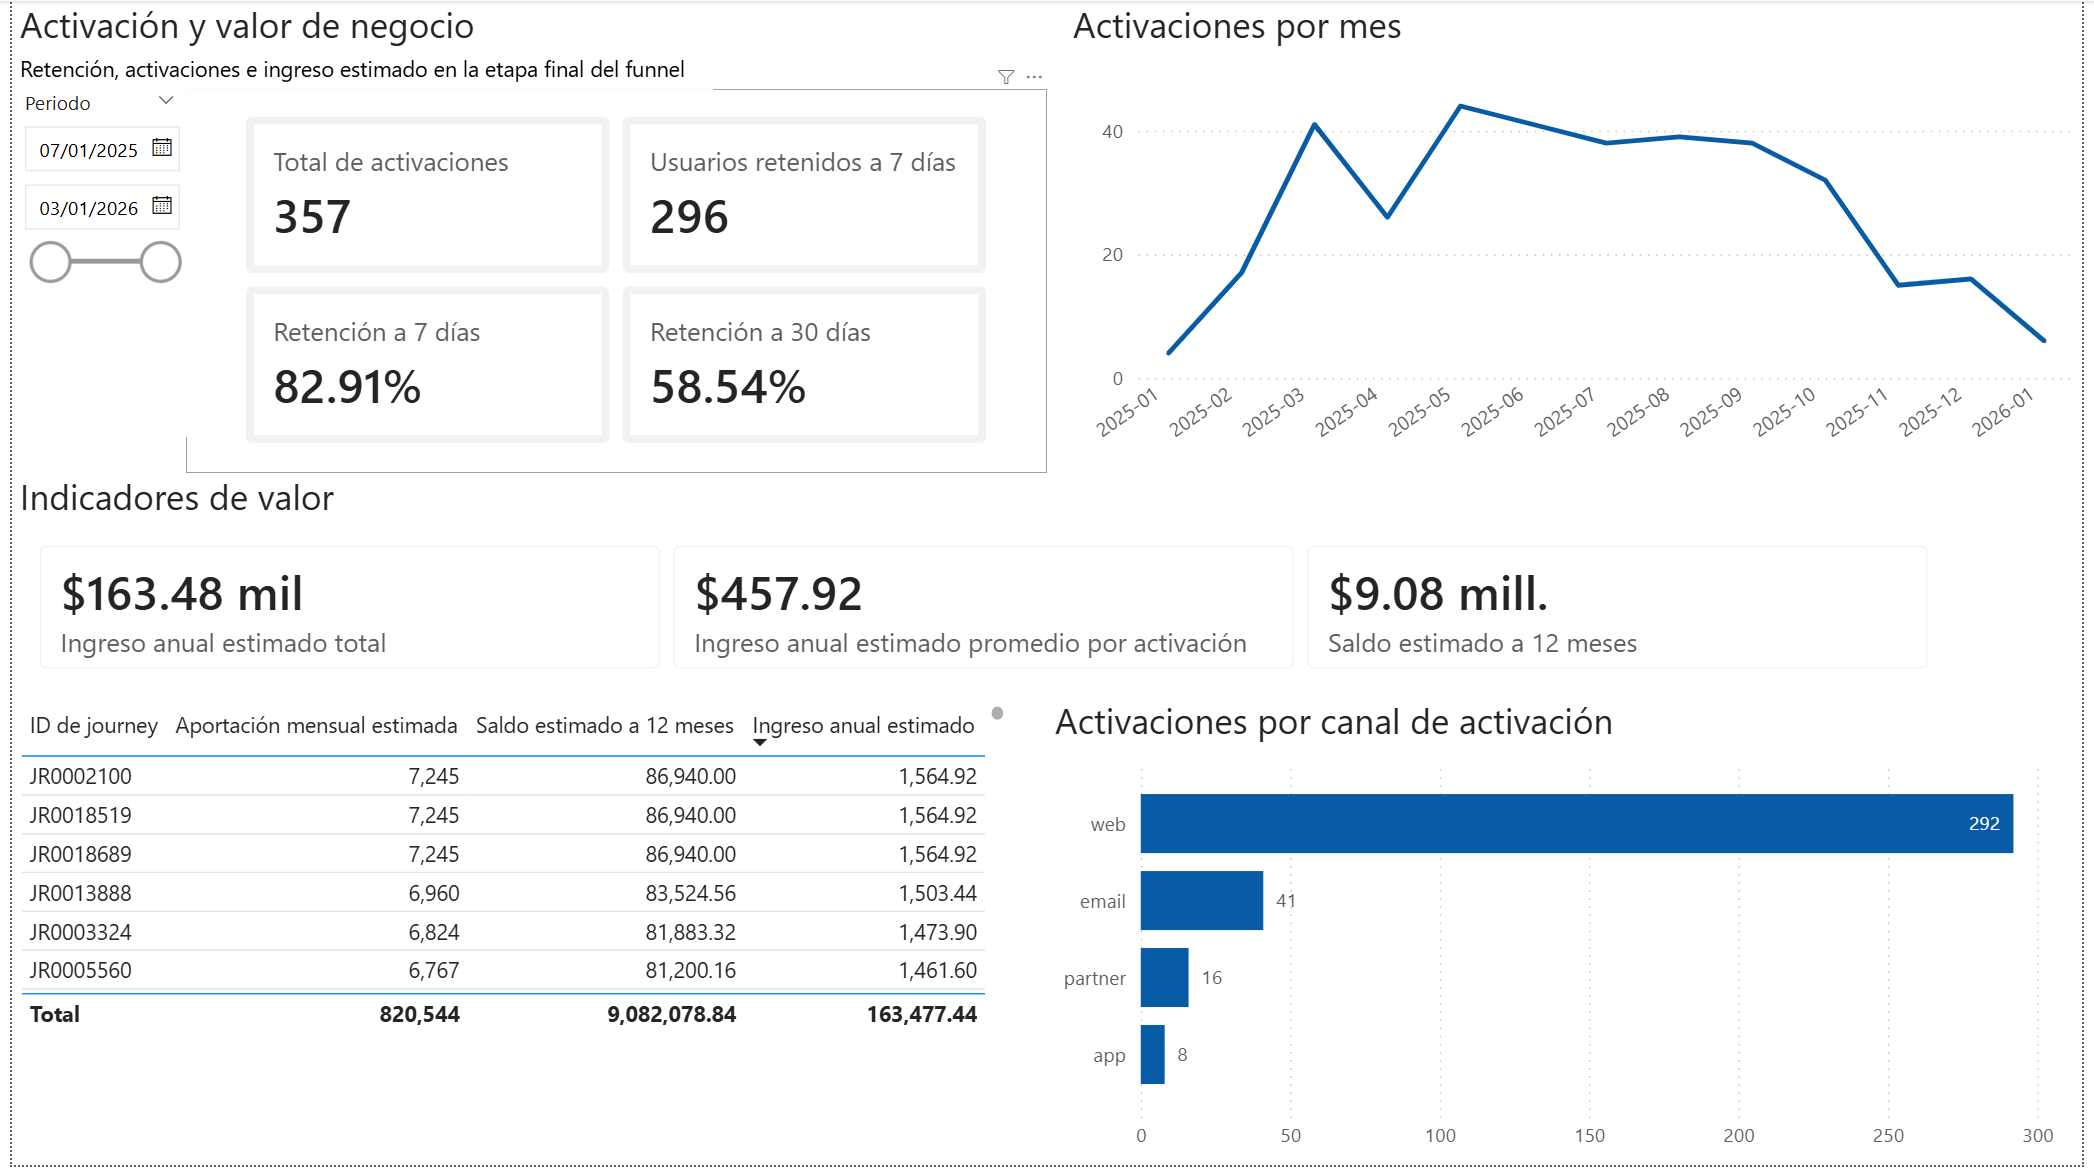

Layout of this report page (visuals, bound fields, positions):
{"tool":"powerbi","page":{"name":"Activación","canvas":[1280,720],"ordinal":3},"visuals":[{"type":"cardVisual","fields":{"Data":["Activation Metrics.Activation Events","Activation Metrics.Retained 7D","Activation Metrics.Retention 7D","Activation Metrics.Retention 30D"]},"box":[107.6,54.4,532.6,237.5],"z":0},{"type":"lineChart","title":"Activaciones por mes","fields":{"Category":["DimDate.Year-Month"],"Y":["Activation Metrics.Activation Events"]},"box":[651.3,0,628.7,292.1],"z":1000},{"type":"barChart","title":"Activaciones por canal de activación","fields":{"Category":["Activation Metrics.activation_channel"],"Y":["Activation Metrics.Activation Events"]},"box":[640.4,430.8,639.6,289],"z":2000},{"type":"tableEx","fields":{"Values":["Estimated Revenue.journey_id","Sum(Estimated Revenue.estimated_monthly_contribution)","Sum(Estimated Revenue.estimated_12m_balance)","Sum(Estimated Revenue.estimated_annual_revenue)"]},"box":[0,430.5,619.2,212.2],"z":3000},{"type":"cardVisual","title":"Indicadores de valor","fields":{"Data":["Estimated Revenue.Total Estimated Revenue Detail","Estimated Revenue.Average Estimated Revenue per Activation","Estimated Revenue.Estimated 12M Balance"]},"box":[0,292.1,1204.4,138.7],"z":4000},{"type":"textbox","title":"Activación y valor de negocio","box":[0,0,433.9,54.5],"z":5000},{"type":"slicer","fields":{"Values":["DimDate.Date"]},"box":[0,54.4,107.6,215.3],"z":6000}]}

Visuals, with their boxes in screenshot pixels (x1, y1, x2, y2), scaled from the page's 1280x720 canvas onto the 2094x1173 screenshot:
cardVisual - Activation Metrics.Activation Events x Activation Metrics.Retained 7D: x1=176, y1=89, x2=1047, y2=476
"Activaciones por mes" lineChart: x1=1065, y1=0, x2=2093, y2=476
"Activaciones por canal de activación" barChart: x1=1048, y1=702, x2=2093, y2=1172
tableEx - Estimated Revenue.journey_id x Sum(Estimated Revenue.estimated_monthly_contribution): x1=0, y1=701, x2=1013, y2=1047
"Indicadores de valor" cardVisual: x1=0, y1=476, x2=1970, y2=702
"Activación y valor de negocio" textbox: x1=0, y1=0, x2=710, y2=89
slicer - DimDate.Date: x1=0, y1=89, x2=176, y2=439
